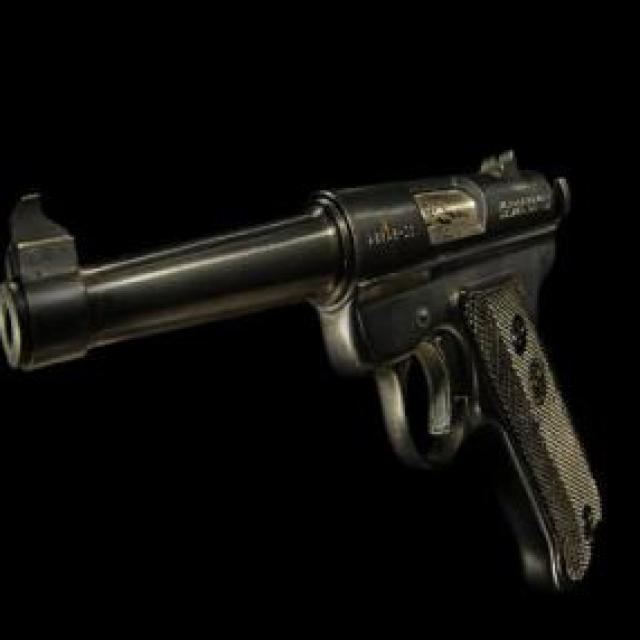pistol: (0, 150, 602, 584)
